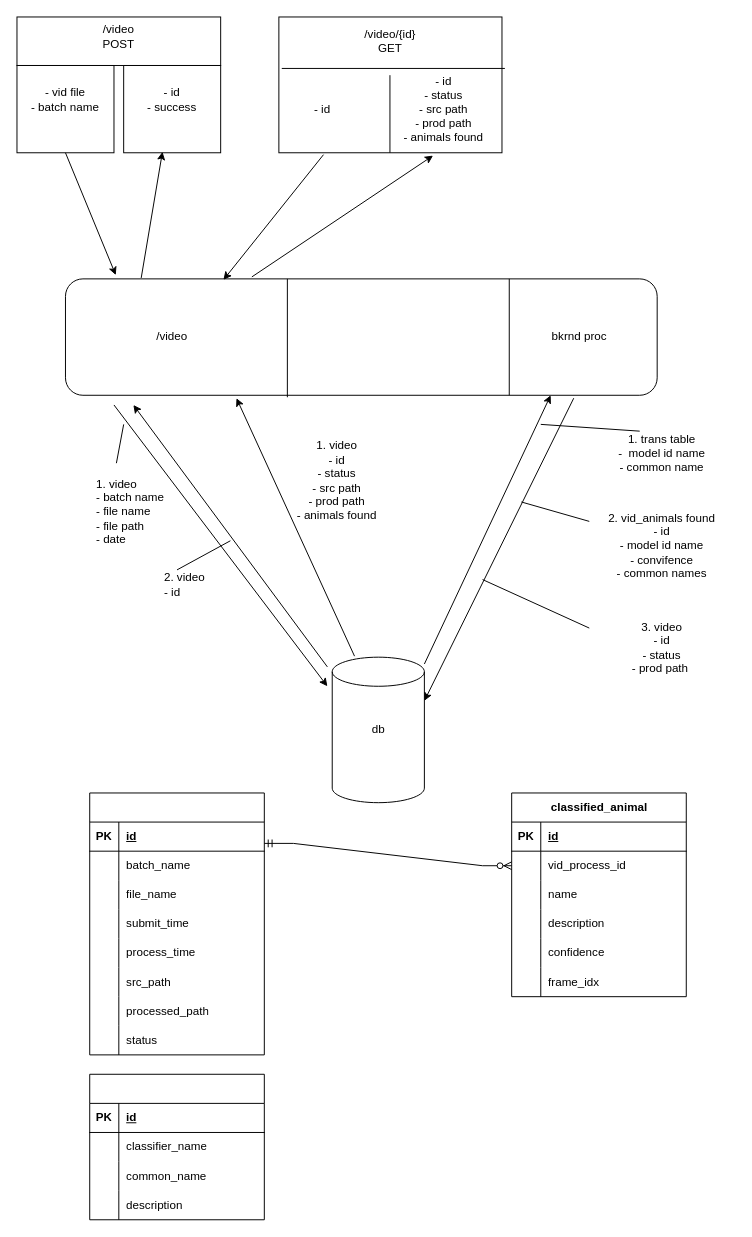
The diagram is 752 pixels wide and 1237 high, and some of its shapes have lost their labels. The shapes that lost their labels are listed below. From the top down, each one's box as (x1, y1, x2, y2) in pixels, then its label:
(89, 792, 264, 1055): vid_process
(89, 1073, 264, 1220): class_name_map
